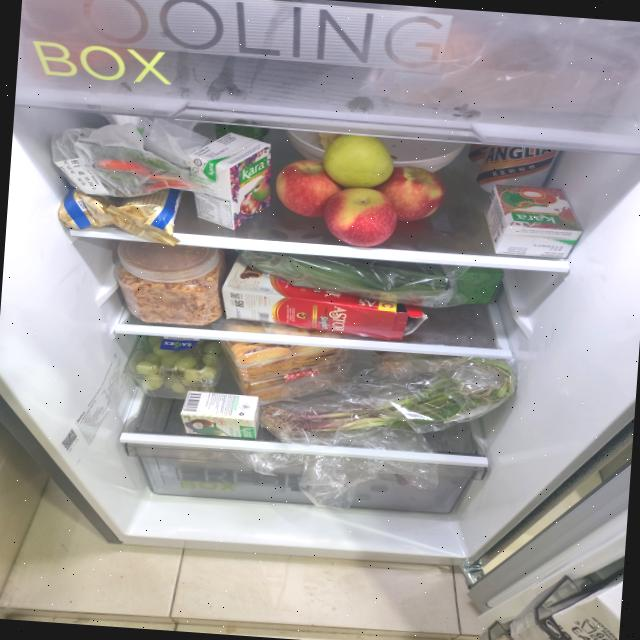apple: (272, 128, 448, 252)
chili: (92, 148, 196, 196)
coconut_milk: (182, 129, 276, 232), (480, 182, 586, 260), (178, 389, 261, 439)
grape: (132, 334, 222, 396)
leafy_greens: (247, 250, 456, 309)
spring_onion: (260, 342, 520, 451)
